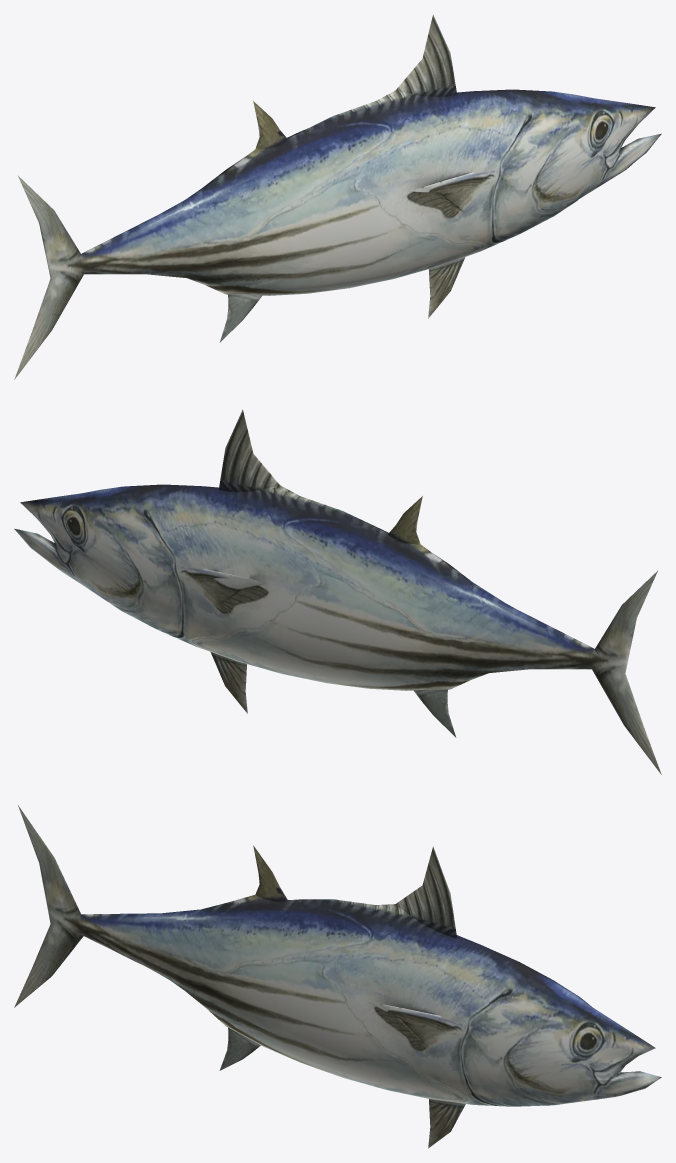
Rendered from tuna.glb.
3 views of the same model, one above another, from view 1: azimuth 30°, elevation 25°; view 2: azimuth 150°, elevation 25°; view 3: azimuth 330°, elevation 25° (orthographic).
Parts seen in each view (by area): view 1: FishMesh; view 2: FishMesh; view 3: FishMesh.
Part boxes in pixels (left/top/right/bottom): FishMesh: left=14, top=14, right=661, bottom=379; FishMesh: left=14, top=409, right=661, bottom=774; FishMesh: left=14, top=805, right=661, bottom=1148.
Bounding box in the file's own units: 1.1 × 0.4925 × 0.1198.
1 material, 1 textured.
